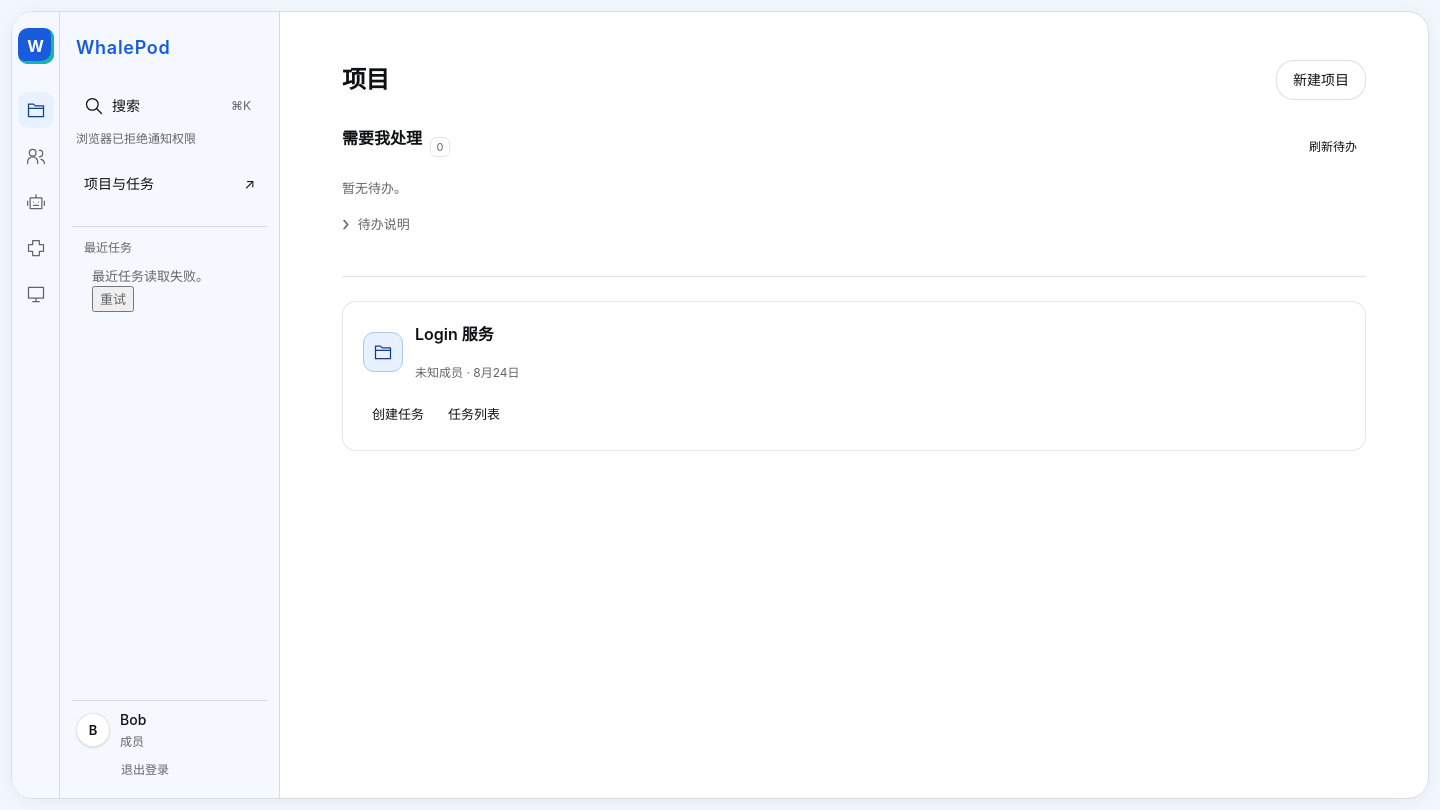
Test case: ⌘K 三类实体搜索（#263） › 段内无命中不渲染该段段头；空关键词不发搜索请求；三段都空如实说没有
The width and height of the screenshot is (1440, 810).
Click the button "搜索 ⌘K" at (170, 106), box x1=72 y1=86 x2=267 y2=126
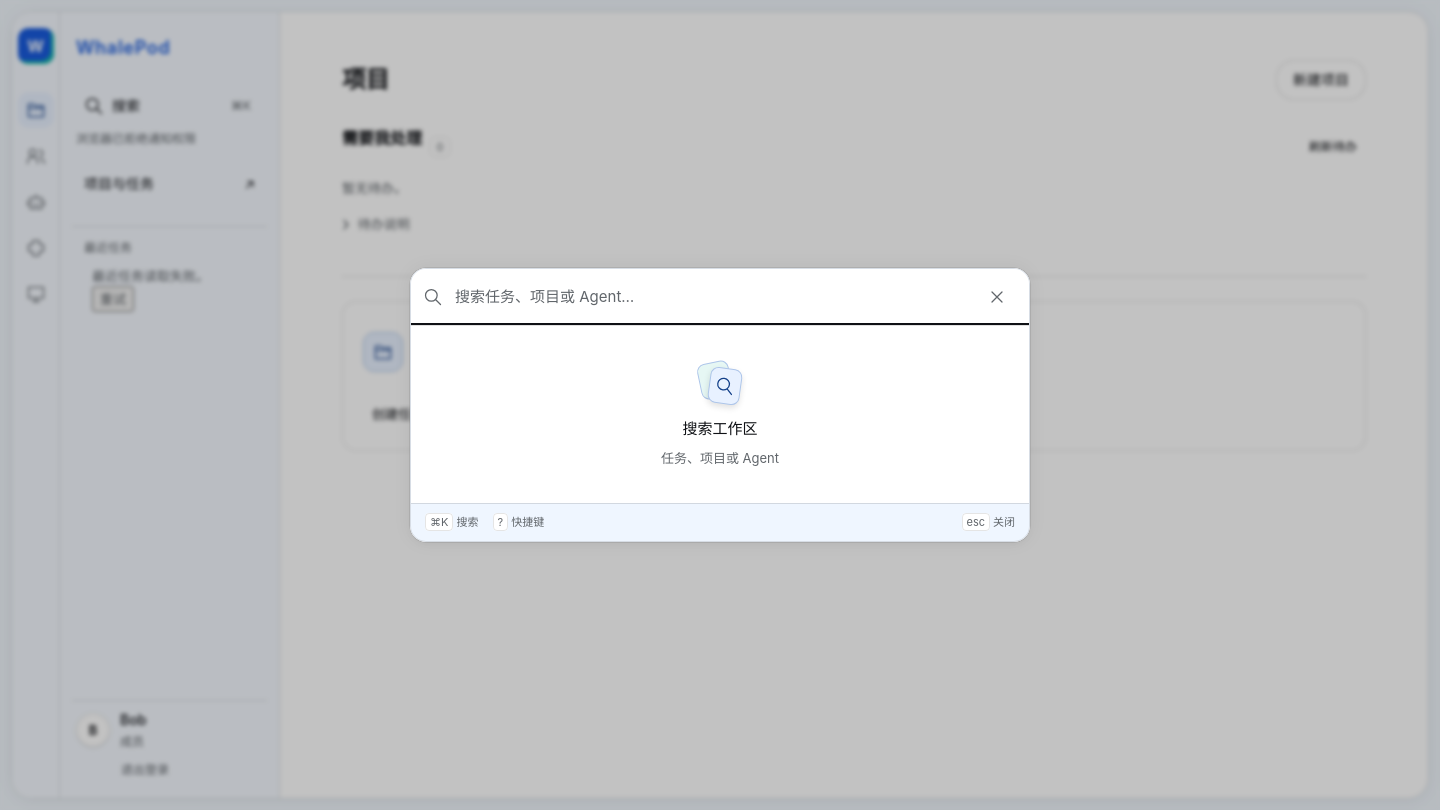
Type "不存在的词" into the field named "搜索关键词" at (710, 297), box x1=455 y1=277 x2=965 y2=317
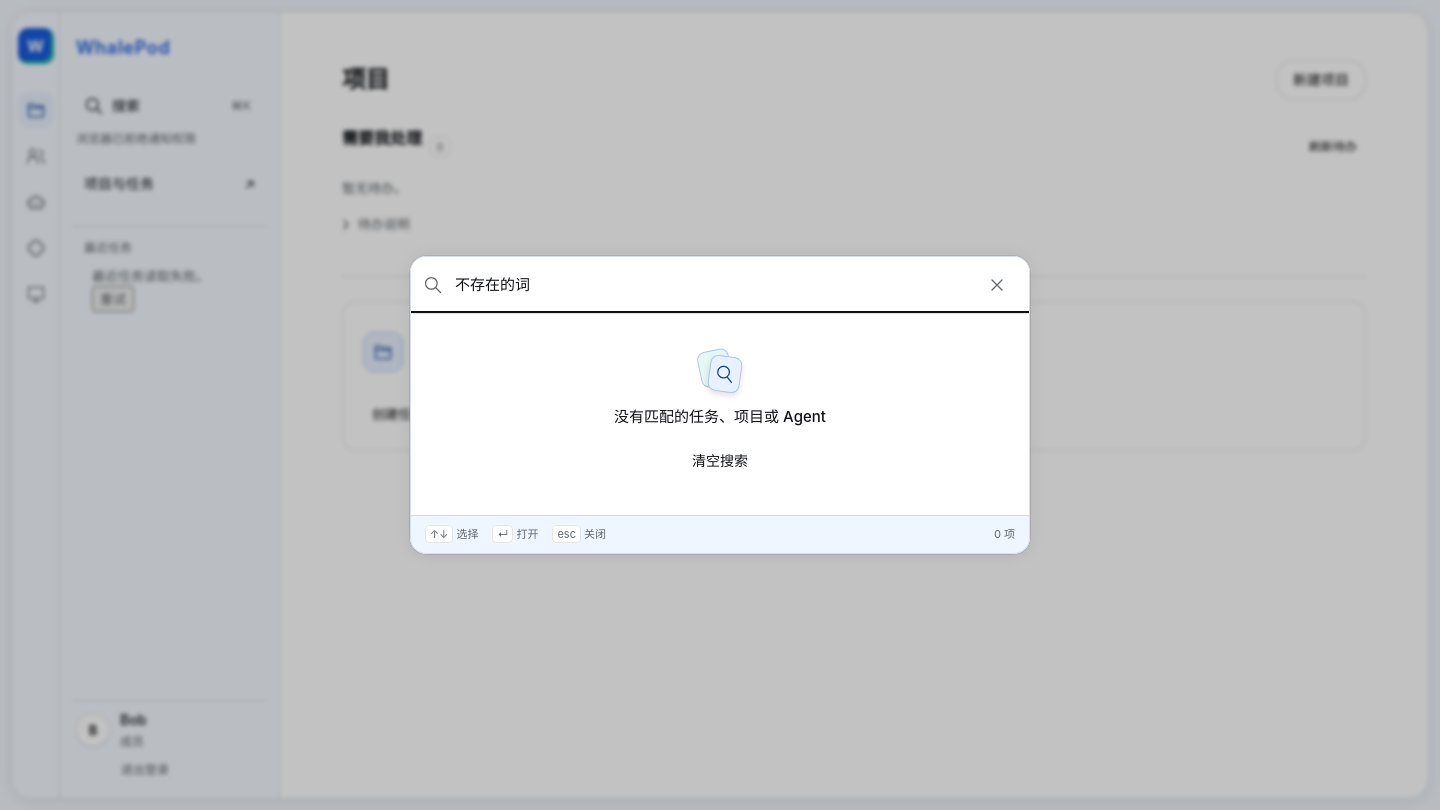
Check: the heading "没有匹配的任务、项目或 Agent" is shown, box x1=614 y1=406 x2=826 y2=427
# 只有项目命中时：只出现项目段（任务服务端桩返回空、Agent 名字不匹配）。
Replace the text in the field named "搜索关键词" with "Login 服务" at (710, 285), box x1=455 y1=265 x2=965 y2=305
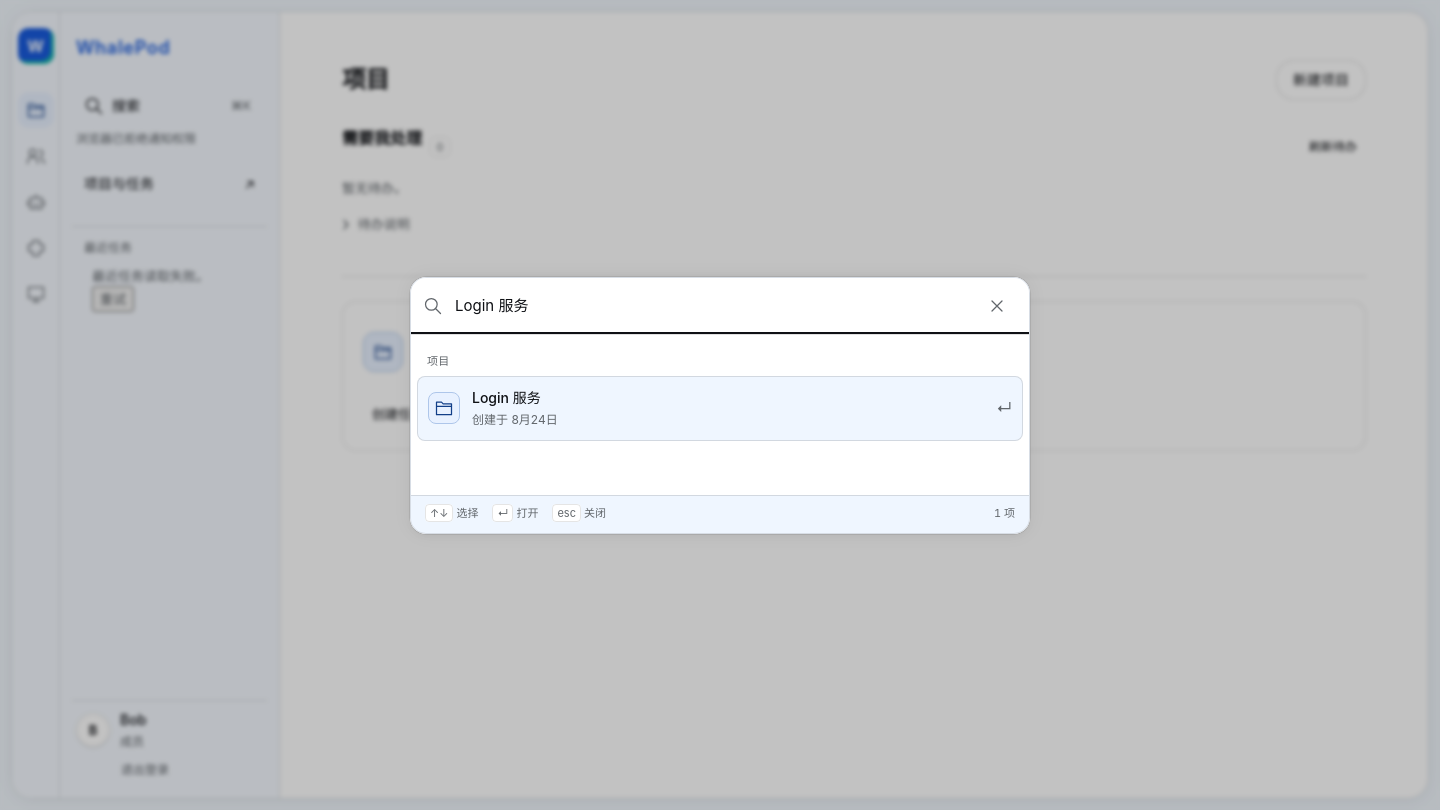
Check: the option "Login 服务 创建于 8月24日 ↵" is shown, box x1=417 y1=376 x2=1023 y2=441
Check: the heading "Agent" is gone
